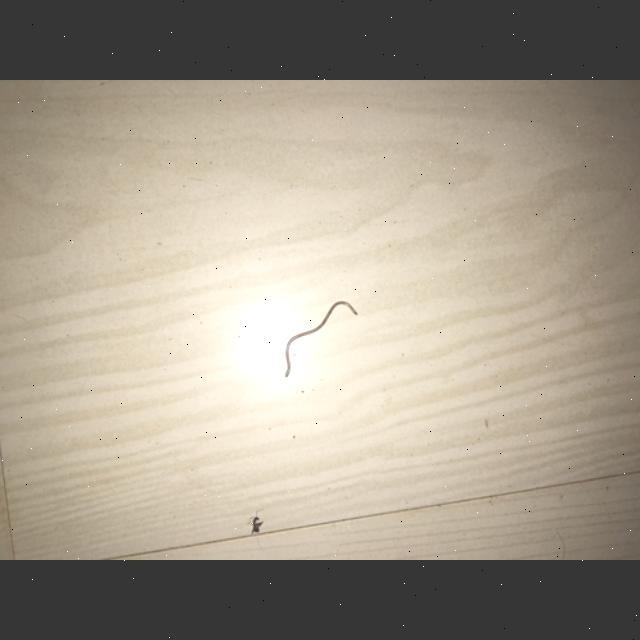snake: (270, 294, 364, 384)
